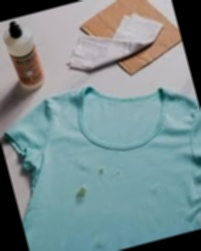oil: (72, 182, 91, 203), (95, 163, 108, 174), (109, 171, 123, 180)
